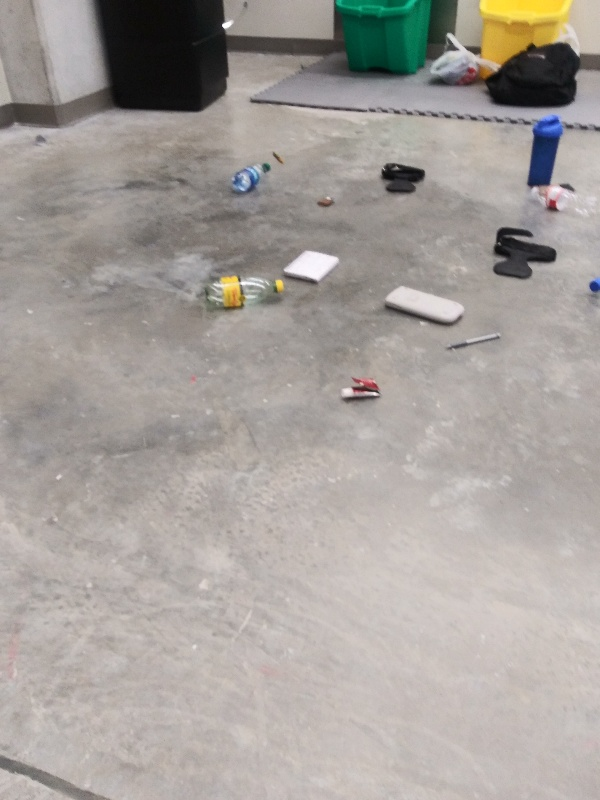bottle: (201, 272, 287, 309), (525, 182, 600, 222), (223, 159, 277, 197)
